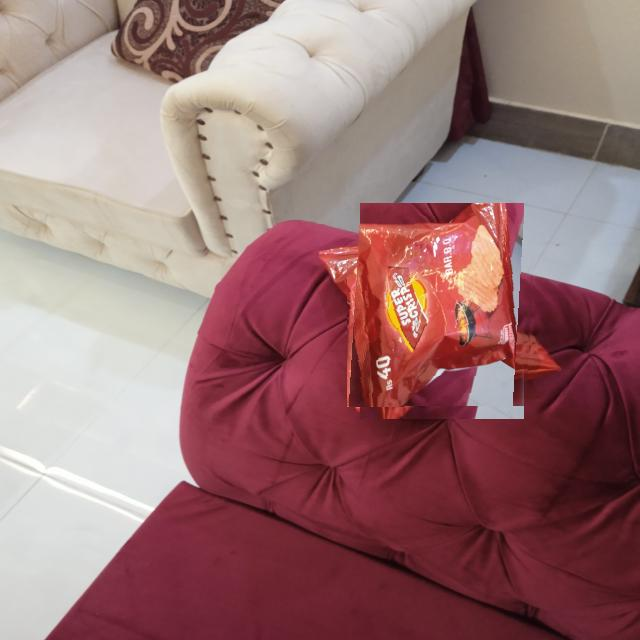Plastic: (347, 216, 537, 407)
